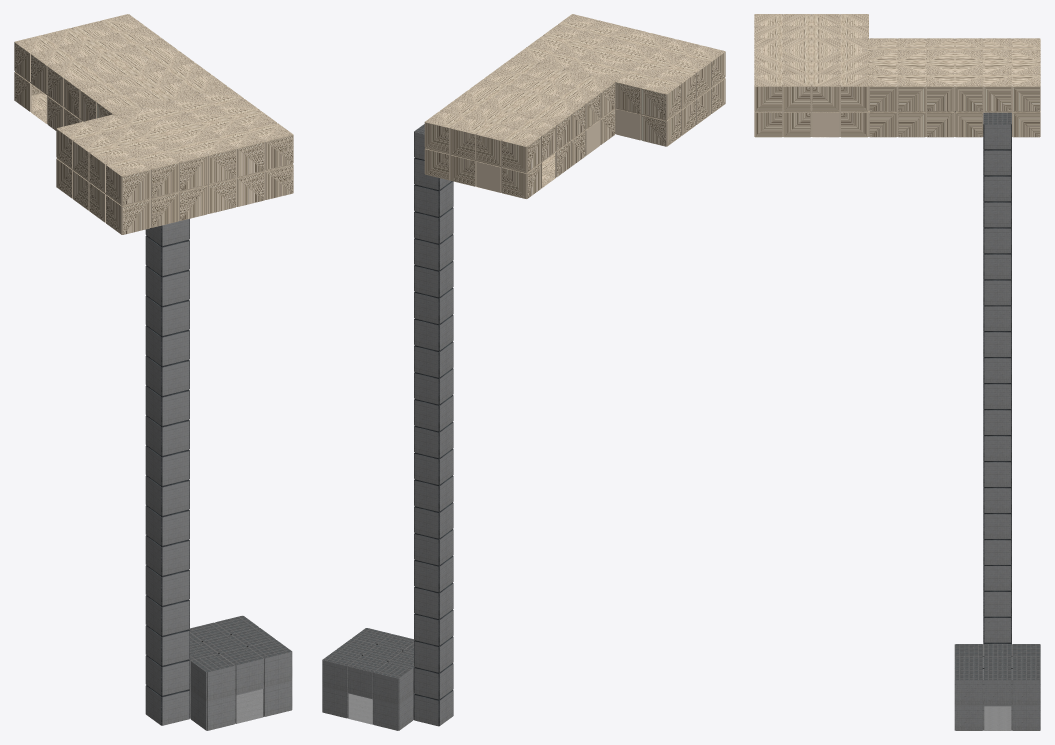
File: MainEntrance.fbx
3 views of the same model, side by side, from view 1: azimuth 30°, elevation 25°; view 2: azimuth 150°, elevation 25°; view 3: azimuth 270°, elevation 25° (orthographic). The views are drawn at different scales.
Parts seen in each view (by area): view 1: Room.004, Room.002, Room.003, Room.001; view 2: Room.002, Room.003, Room.004, Room.001; view 3: Room.003, Room.002, Room.004, Room.001.
Boxes of the visible parts, box(x1,y1,x2,y2) form: Room.004: box(56, 86, 293, 234); Room.002: box(145, 219, 189, 725); Room.003: box(14, 14, 227, 130); Room.001: box(189, 615, 292, 730); Room.002: box(414, 124, 453, 726); Room.003: box(424, 57, 615, 198); Room.004: box(514, 14, 725, 146); Room.001: box(322, 628, 414, 730); Room.003: box(869, 38, 1040, 137); Room.002: box(983, 112, 1011, 644); Room.004: box(754, 14, 868, 137); Room.001: box(954, 644, 1040, 730).
Size of the model in its own units: 2000 by 4590 by 2000.
